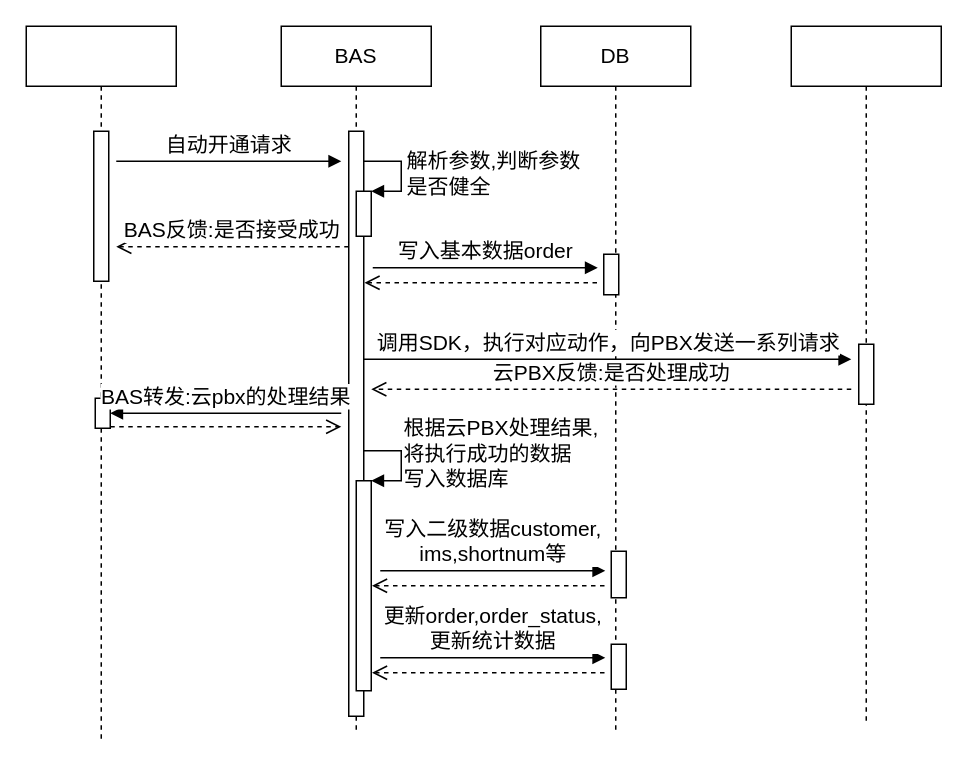
This 968x765 diagram has some shape labels left out. Here are the shapes that lost their labels. From the top down, the centre of each, then its label:
At point 100,382: "BOSS".
At point 865,374: "PBX-SDK".
